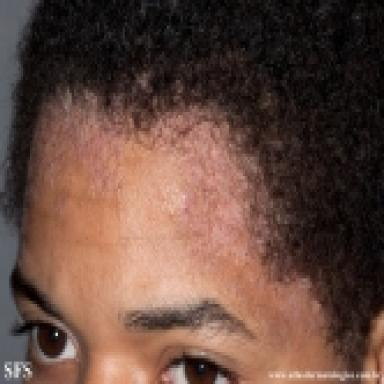Darier_s-Disease: (20, 92, 323, 350)
